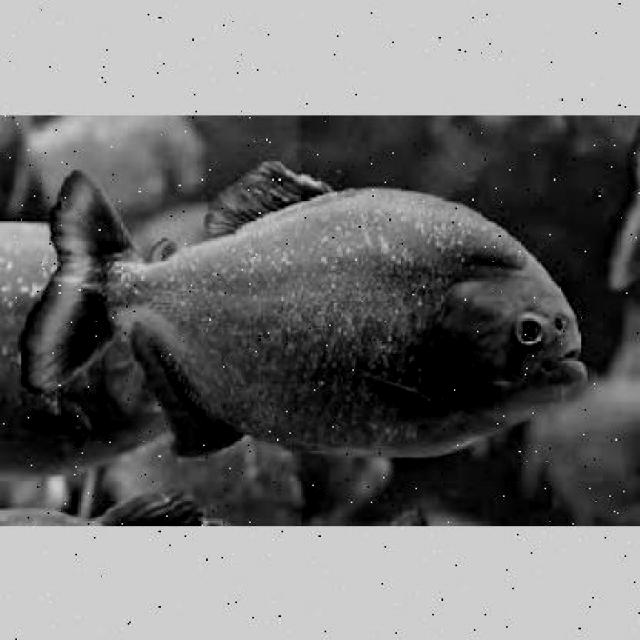ikan-pacu: (78, 173, 587, 454)
